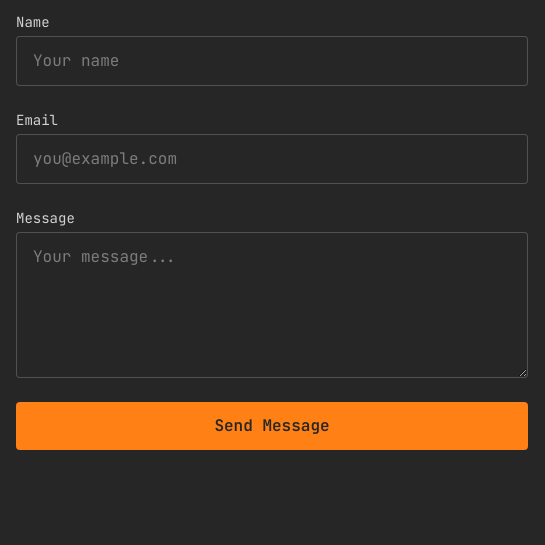
Scenario: ContactForm › error response › displays fallback error message when server provides no error field
The image size is (545, 545).
Type "John Doe" into the field labelled "Name" at [272, 61], box x1=16 y1=36 x2=528 y2=86
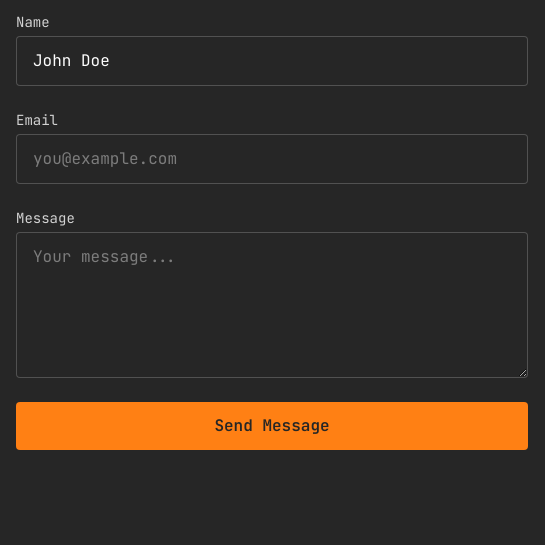
Type "john@example.com" into the field labelled "Email" at [272, 159], box x1=16 y1=134 x2=528 y2=184
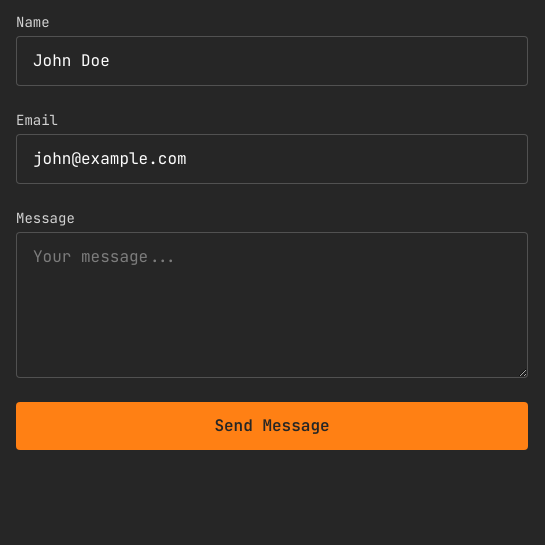
Type "Hello, this is a test message." into the text box labelled "Message" at [272, 305], box x1=16 y1=232 x2=528 y2=378
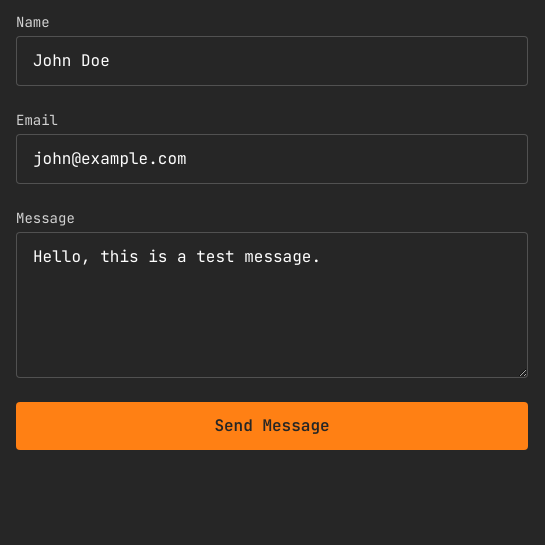
Click the button "Send Message" at [272, 426], box x1=16 y1=402 x2=528 y2=450
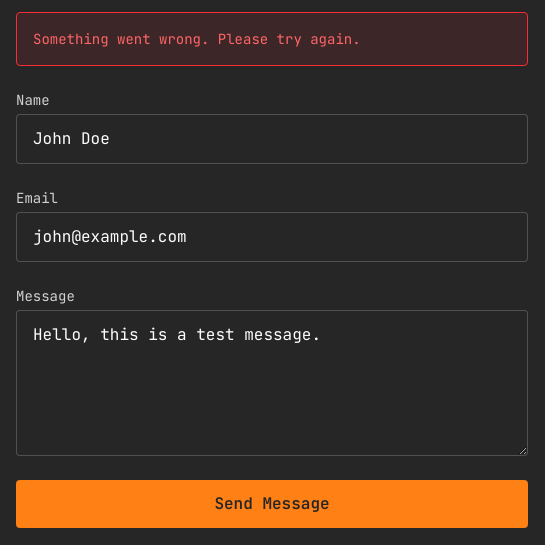
Expected: the text "Something went wrong. Please try again." is shown, x1=16 y1=12 x2=528 y2=66
